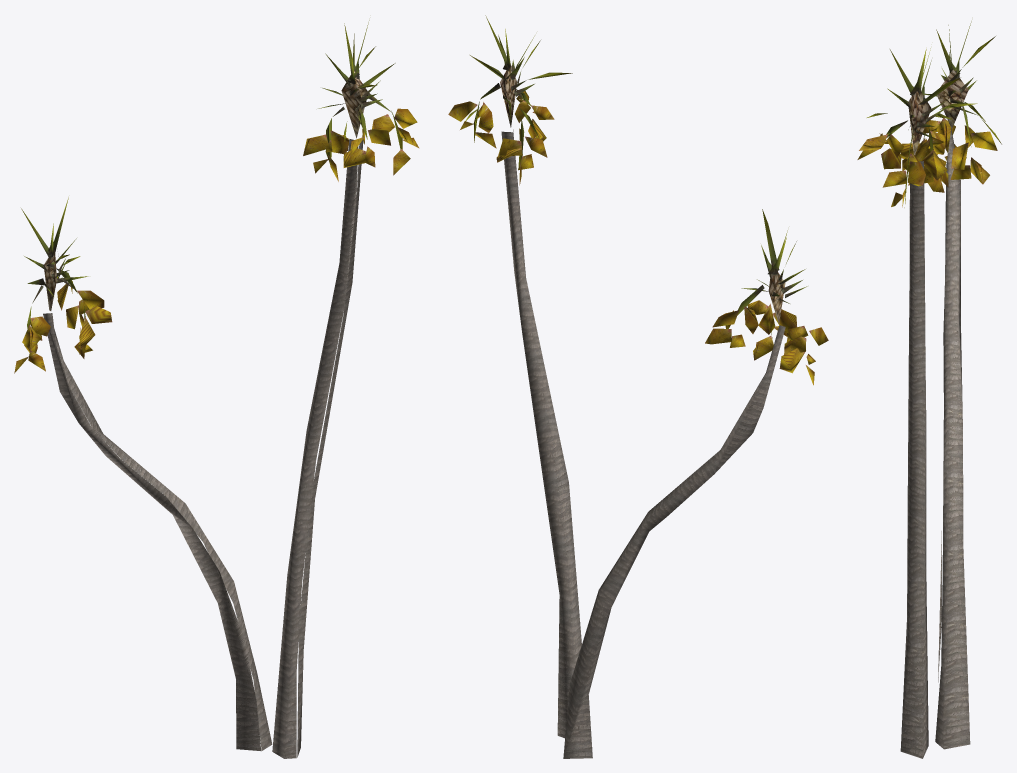
The model's file is palmeira_lod.gltf.
3 views of the same model, side by side, from view 1: azimuth 30°, elevation 25°; view 2: azimuth 150°, elevation 25°; view 3: azimuth 270°, elevation 25° (orthographic). The views are drawn at different scales.
Visible parts, largest first — view 1: palmeira_lod; view 2: palmeira_lod; view 3: palmeira_lod.
Boxes of the visible parts, bbox=[...] form: palmeira_lod: bbox=[14, 20, 419, 758]; palmeira_lod: bbox=[448, 15, 828, 758]; palmeira_lod: bbox=[857, 21, 1001, 758].
Size of the model in its own units: 5.46 by 9.72 by 1.72.
4 materials, 4 textured.
